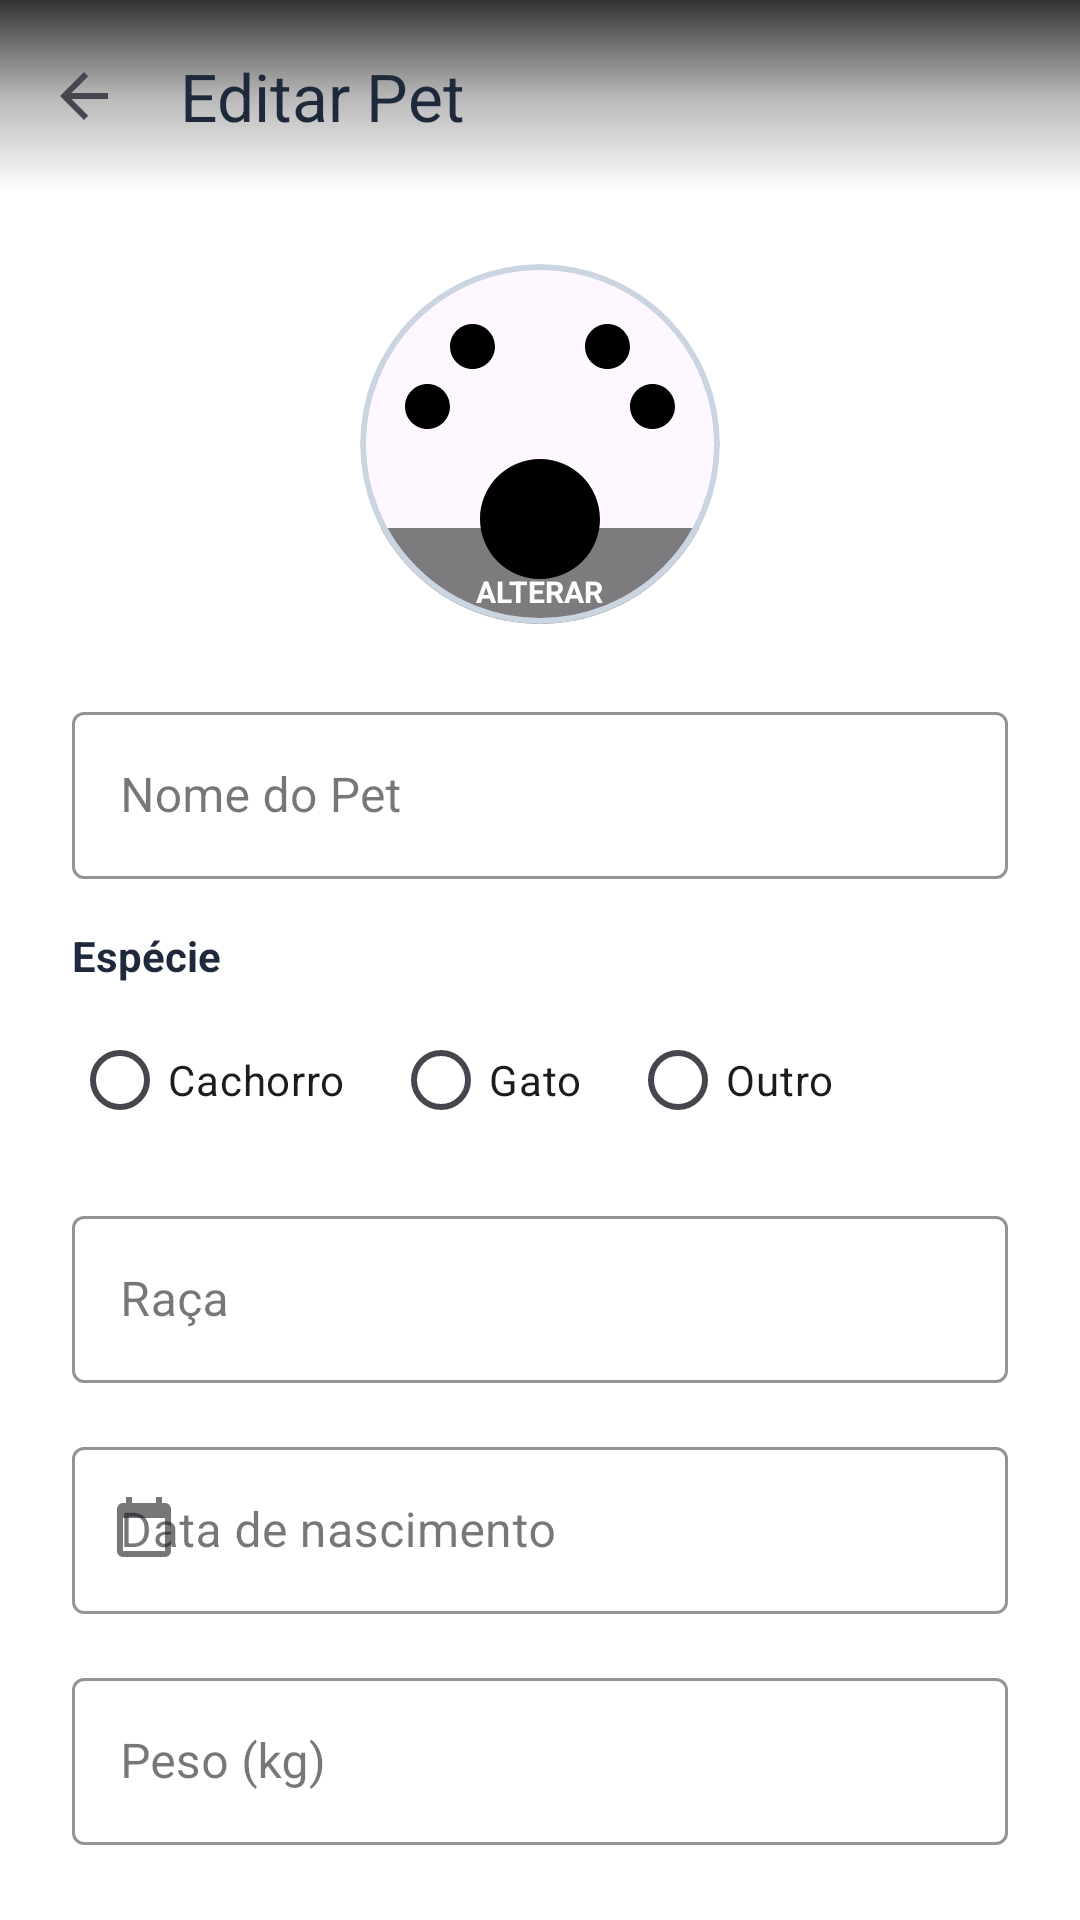

Icon click points for this 1080×1920 phone screenshot, format [x,y]:
pets: [540,444]
